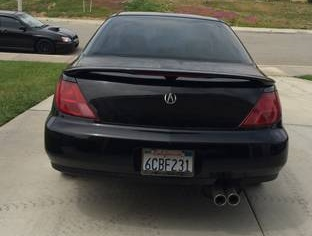acura: (40, 4, 295, 206)
